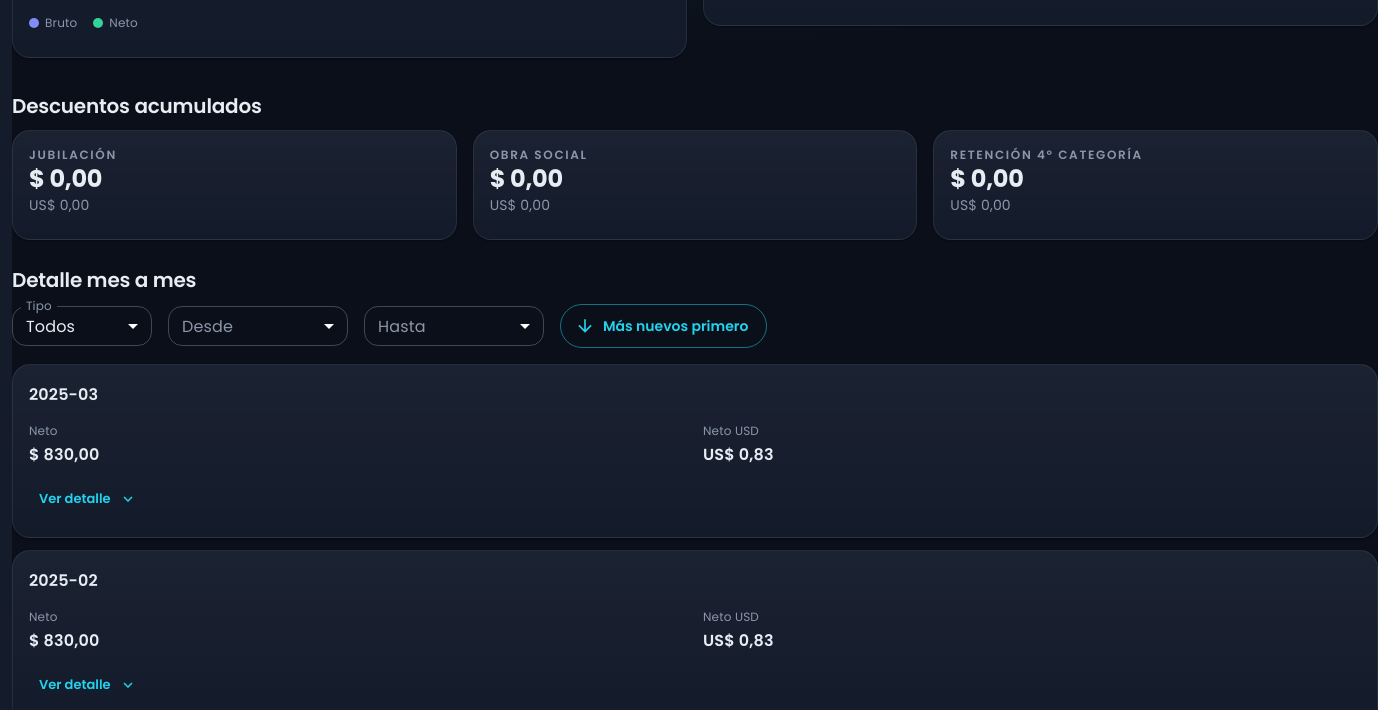
Test: PayslipsPage en mobile con filtros y ajustes › el botón de orden invierte las tarjetas
This screenshot has width=1378, height=710.
(page scrolled)
Expected: the element "2025-03" is shown, [12,364,1377,538]
Step 1. Click the button "Más nuevos primero" → (664, 326), box [560,304,767,348]
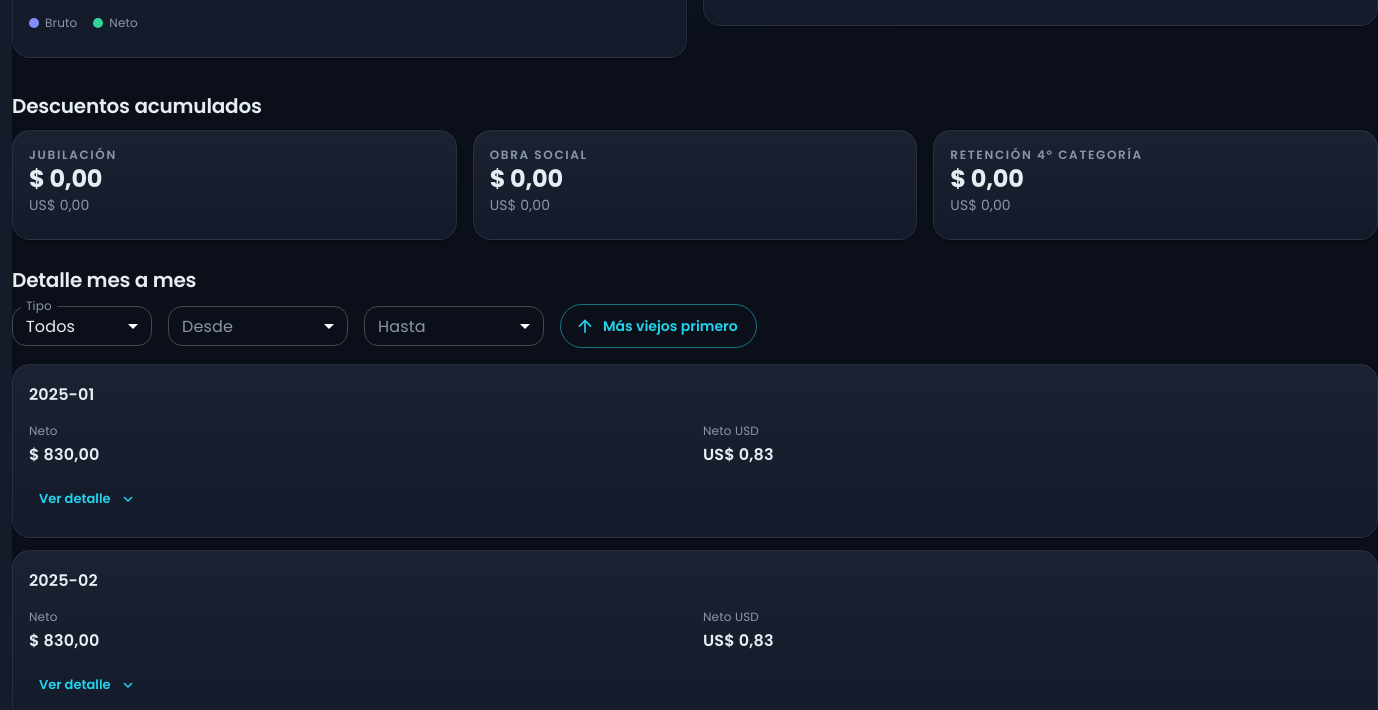
Expected: the button "Más viejos primero" is shown, [560,304,757,348]
